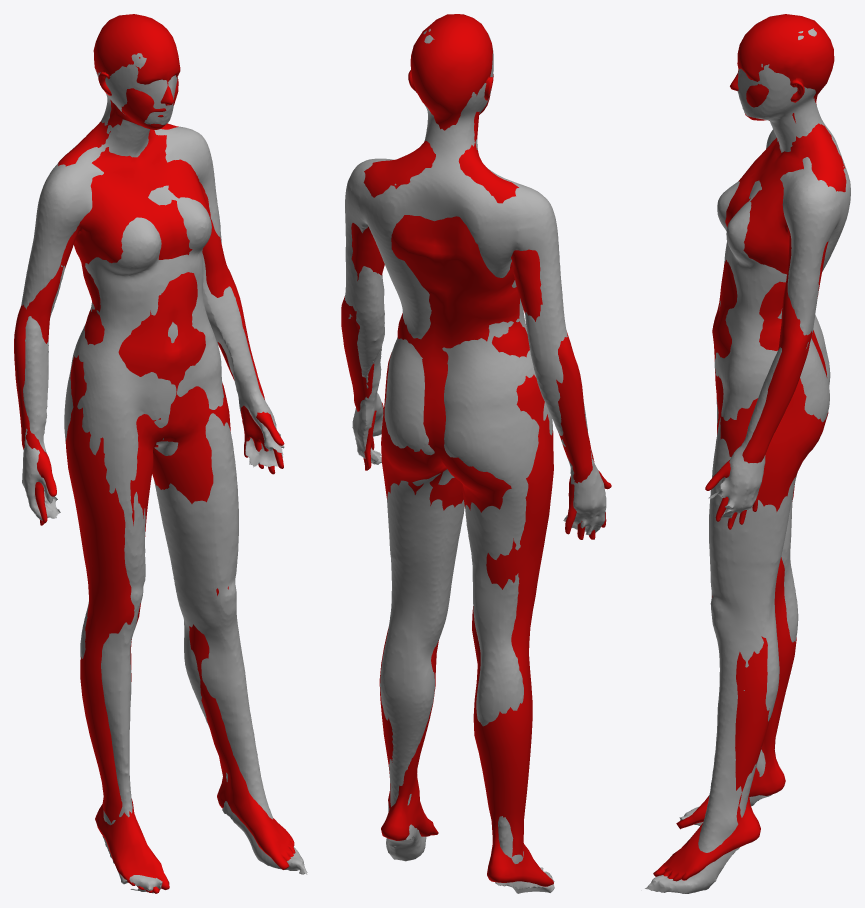
File: result_comparison.glb
3 views of the same model, side by side, from view 1: azimuth 30°, elevation 25°; view 2: azimuth 150°, elevation 25°; view 3: azimuth 270°, elevation 25° (orthographic). The views are drawn at different scales.
Bounding box in the file's own units: 0.5529 × 1.8 × 0.4175.
